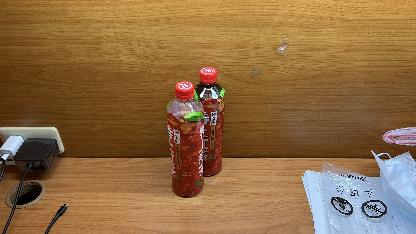Plastic Bottle: (166, 82, 204, 198), (191, 66, 225, 179)
